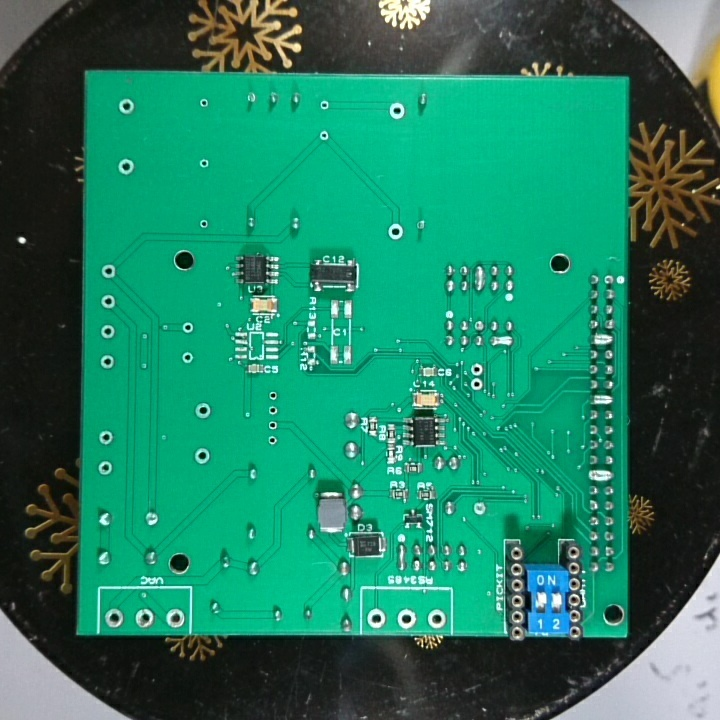F: (132, 603, 157, 632), (163, 603, 188, 631), (95, 455, 122, 480), (385, 218, 408, 245), (115, 94, 139, 119), (364, 606, 390, 629), (386, 97, 408, 123), (190, 400, 215, 422), (116, 154, 136, 181), (425, 606, 448, 629), (103, 604, 126, 627), (98, 260, 119, 285), (395, 606, 419, 626), (192, 446, 213, 468), (470, 499, 491, 520), (142, 508, 161, 531), (413, 212, 430, 237), (98, 321, 119, 341), (97, 427, 116, 449), (98, 352, 119, 371), (99, 293, 119, 312), (264, 415, 284, 432), (469, 360, 487, 378), (468, 375, 484, 395), (196, 154, 212, 174), (196, 95, 212, 115), (601, 270, 618, 288), (264, 401, 282, 418), (264, 428, 279, 448), (181, 320, 197, 338), (316, 126, 331, 144), (179, 350, 199, 363), (243, 91, 259, 107), (266, 386, 281, 403), (316, 97, 333, 112), (473, 317, 487, 335), (196, 215, 211, 231)
P: (585, 465, 617, 485), (587, 329, 615, 348), (489, 332, 516, 351), (588, 392, 617, 409), (395, 540, 408, 575), (471, 263, 486, 293)
